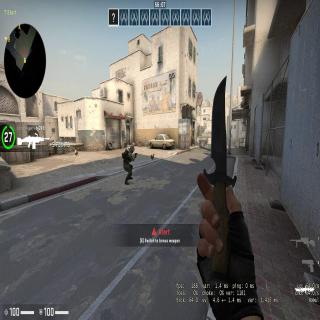CT-Body: (120, 144, 139, 186)
CT-Head: (129, 145, 135, 154)
